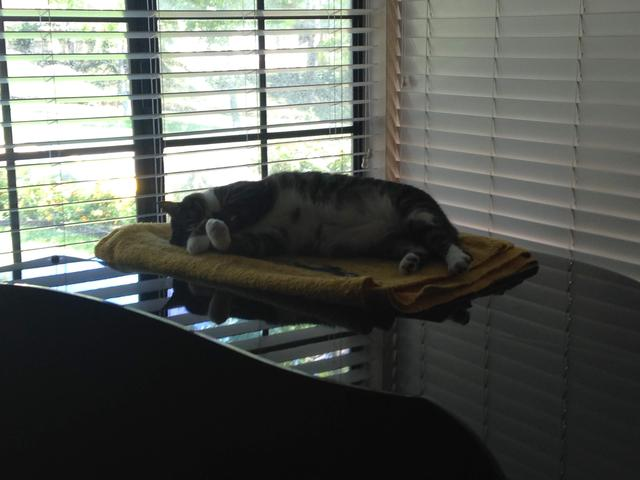playdoh: (159, 171, 478, 278)
